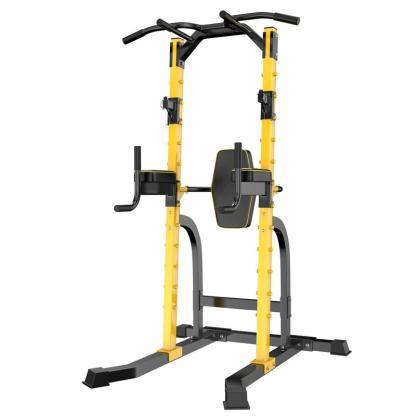chinning dipping: (86, 9, 352, 410)
